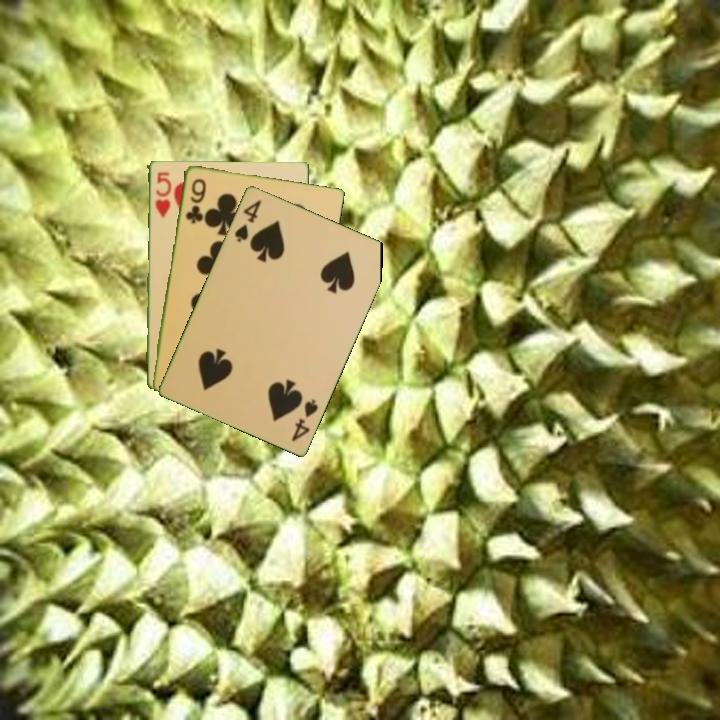4s: (231, 196, 264, 245), (288, 395, 321, 444)
5h: (151, 168, 172, 220)
9c: (182, 175, 208, 226)
